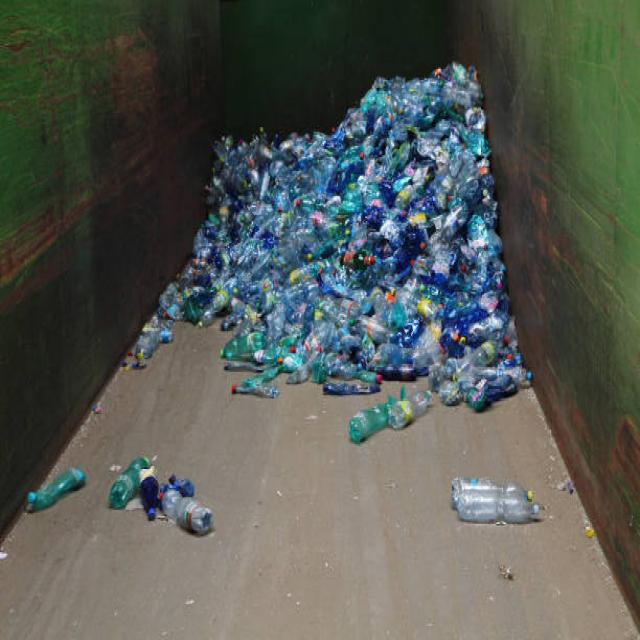plastic: (237, 142, 495, 358)
